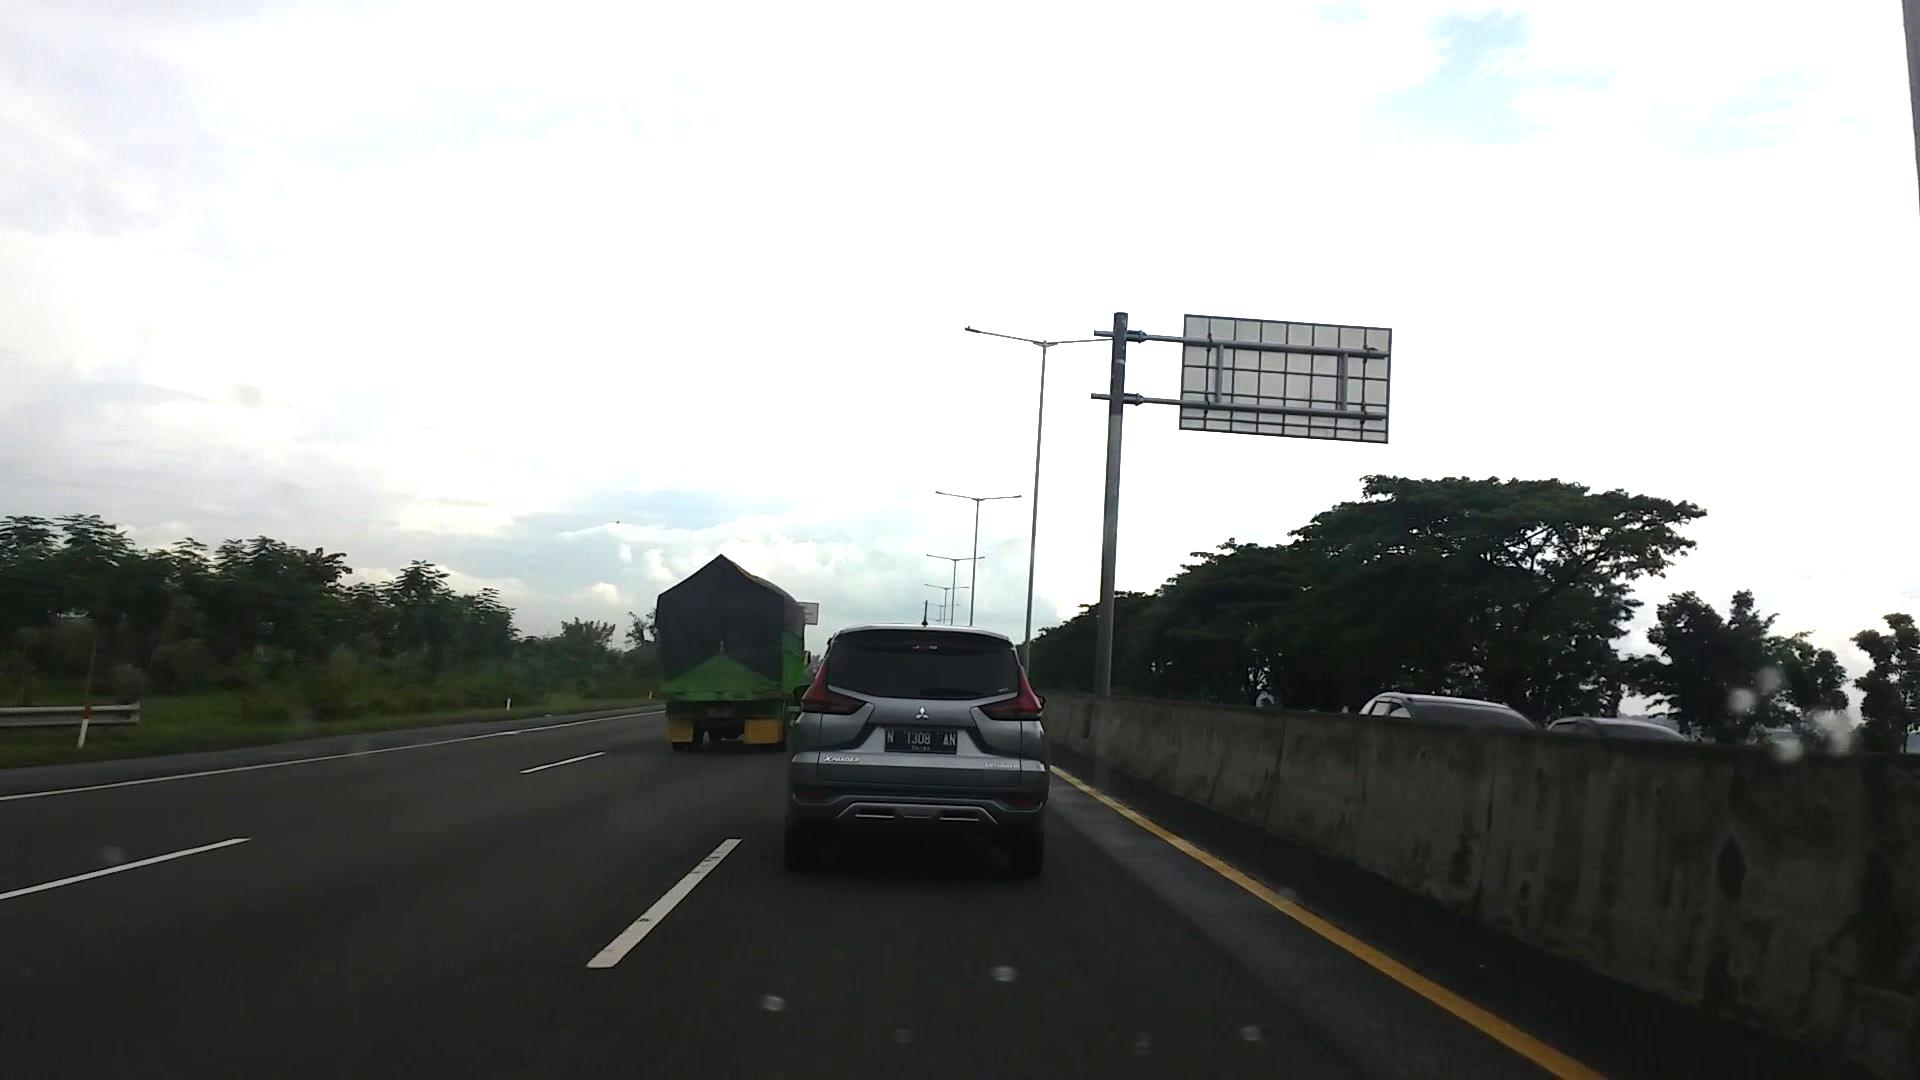plate_positive: (885, 727, 957, 756)
